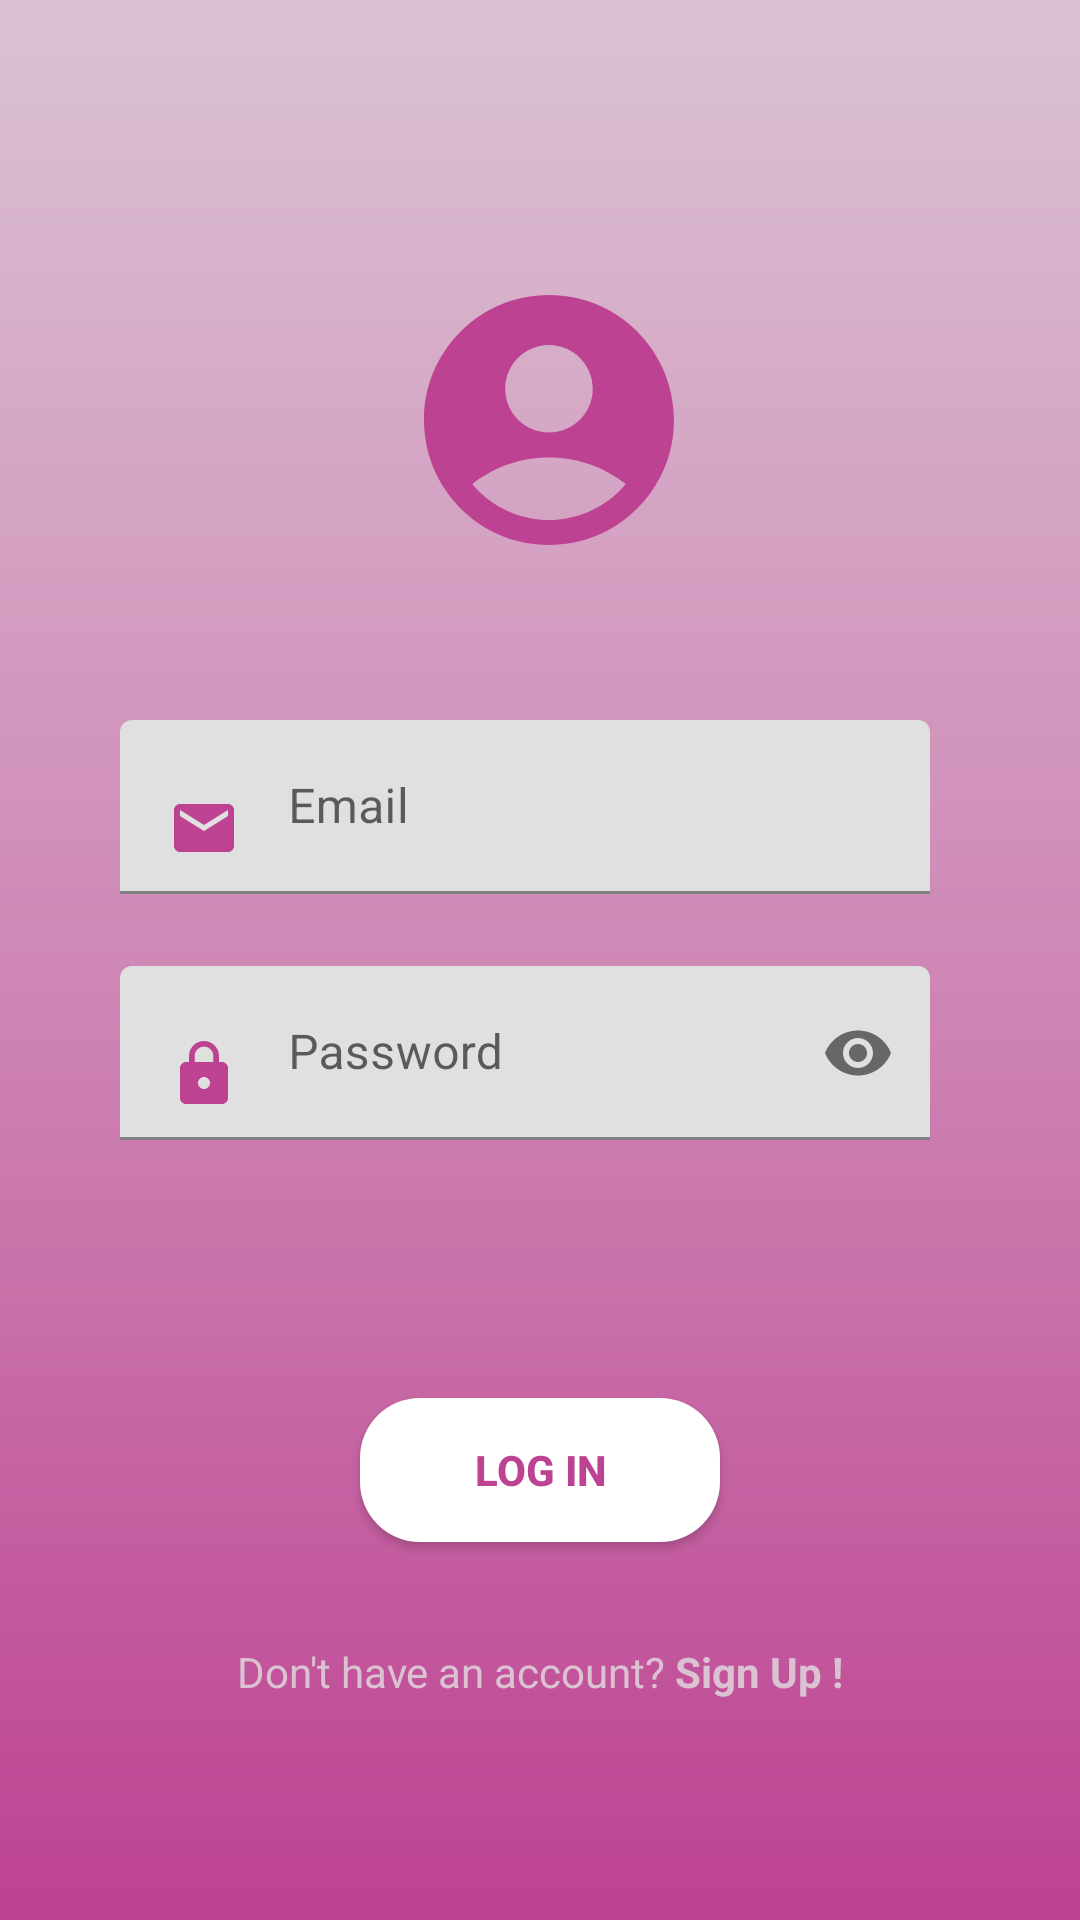

Where to tap for icons on this 1080×1920 app screen, as (x=x, y=y):
account: (x=549, y=420)
